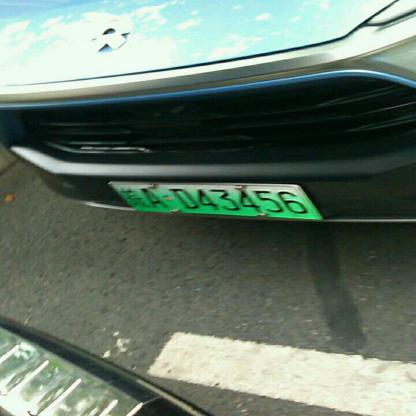lp: (110, 182, 319, 218)
